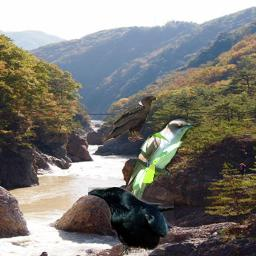Crow: (88, 187, 174, 255), (102, 94, 158, 143)
Cuckoo: (119, 119, 197, 239)
